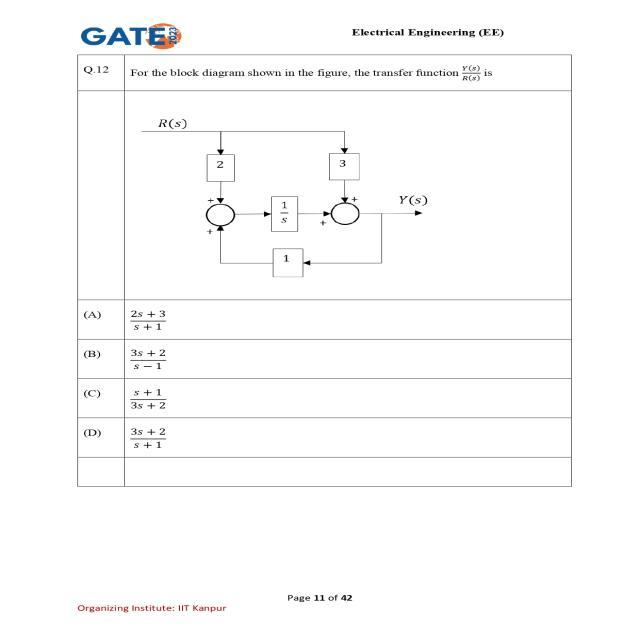Answer_Block: (54, 300, 610, 497)
Question_Answer_Block: (54, 55, 610, 497)
Question_Block: (54, 54, 610, 304)
Question_Paper_Area: (54, 55, 610, 497)
